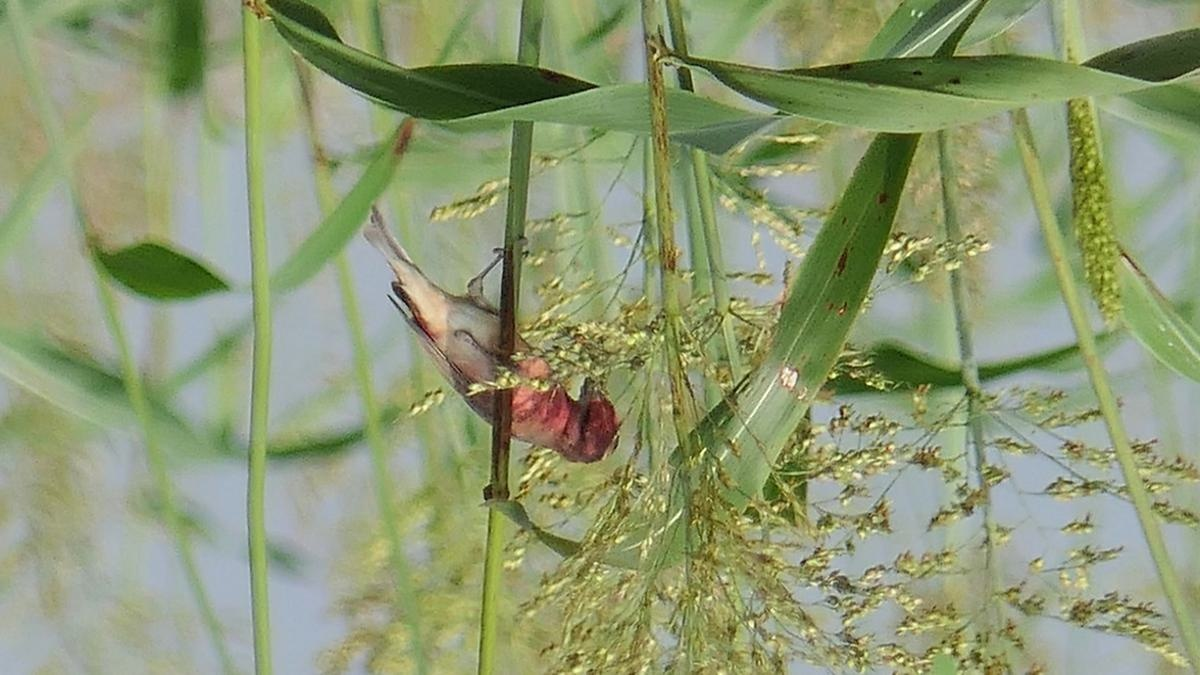rosefinch: (338, 227, 631, 458)
